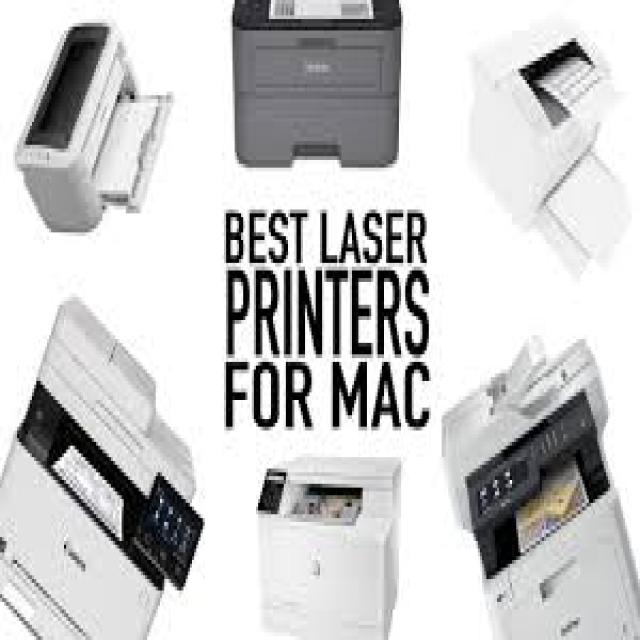printer: (0, 294, 203, 636), (439, 332, 638, 636), (230, 0, 401, 168), (254, 454, 401, 636)
